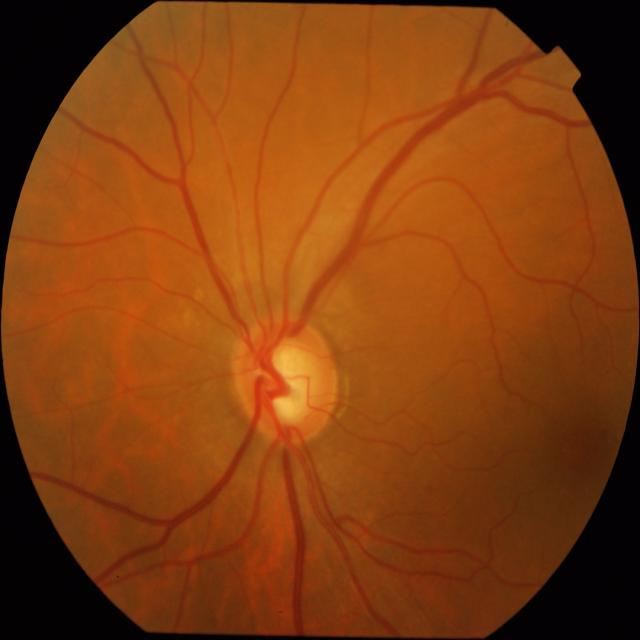OC: (266, 341, 318, 425)
OD: (229, 314, 340, 446)
